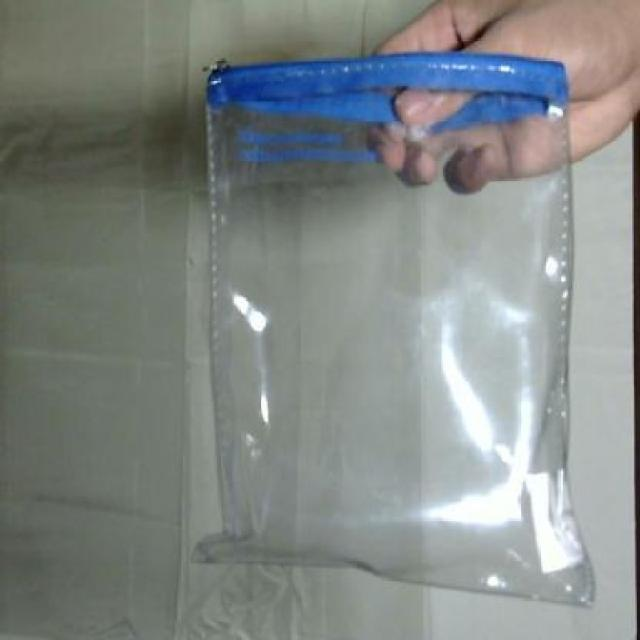Plastic: (190, 53, 597, 607)
